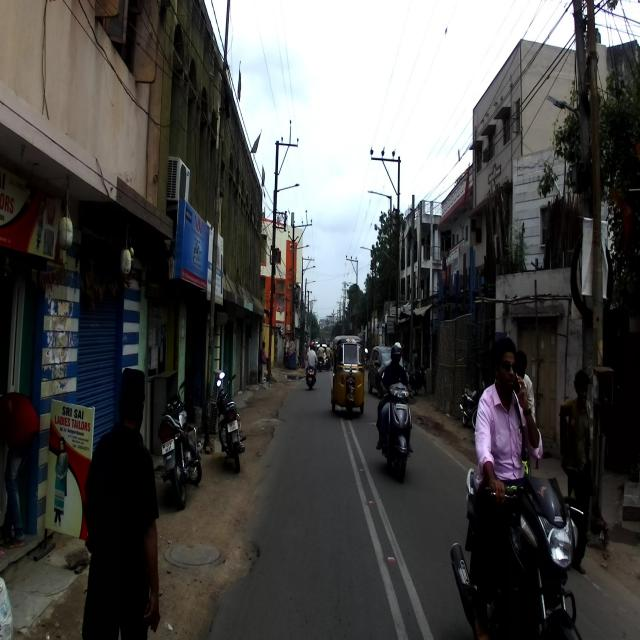motorcycle: (448, 447, 580, 639), (157, 378, 202, 509), (216, 369, 246, 473)
scooter: (376, 376, 412, 483)
